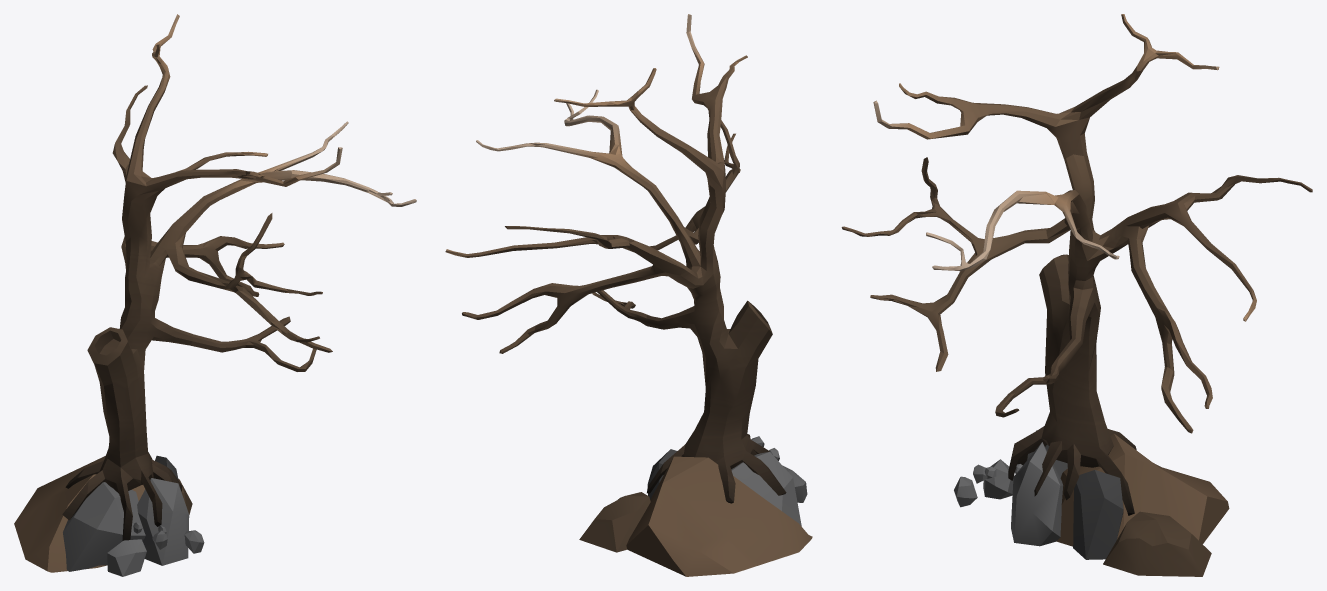
File: ea03_environment_nature_tree_1b_pre_3.004_lev2.glb
3 renders of one model, left to right at view 1: azimuth 30°, elevation 25°; view 2: azimuth 150°, elevation 25°; view 3: azimuth 270°, elevation 25°, orthographic. The views are drawn at different scales.
Parts seen in each view (by area): view 1: ea03_environment_nature_tree_1b_pre_3.004_lev2; view 2: ea03_environment_nature_tree_1b_pre_3.004_lev2; view 3: ea03_environment_nature_tree_1b_pre_3.004_lev2.
Boxes of the visible parts, x1,y1,x2,y2 form: ea03_environment_nature_tree_1b_pre_3.004_lev2: (14, 14, 416, 576); ea03_environment_nature_tree_1b_pre_3.004_lev2: (445, 14, 812, 576); ea03_environment_nature_tree_1b_pre_3.004_lev2: (841, 14, 1312, 576).
Bounding box in the file's own units: 27.44 × 37.78 × 29.94.
Materials: 1 (1 with a texture image).
